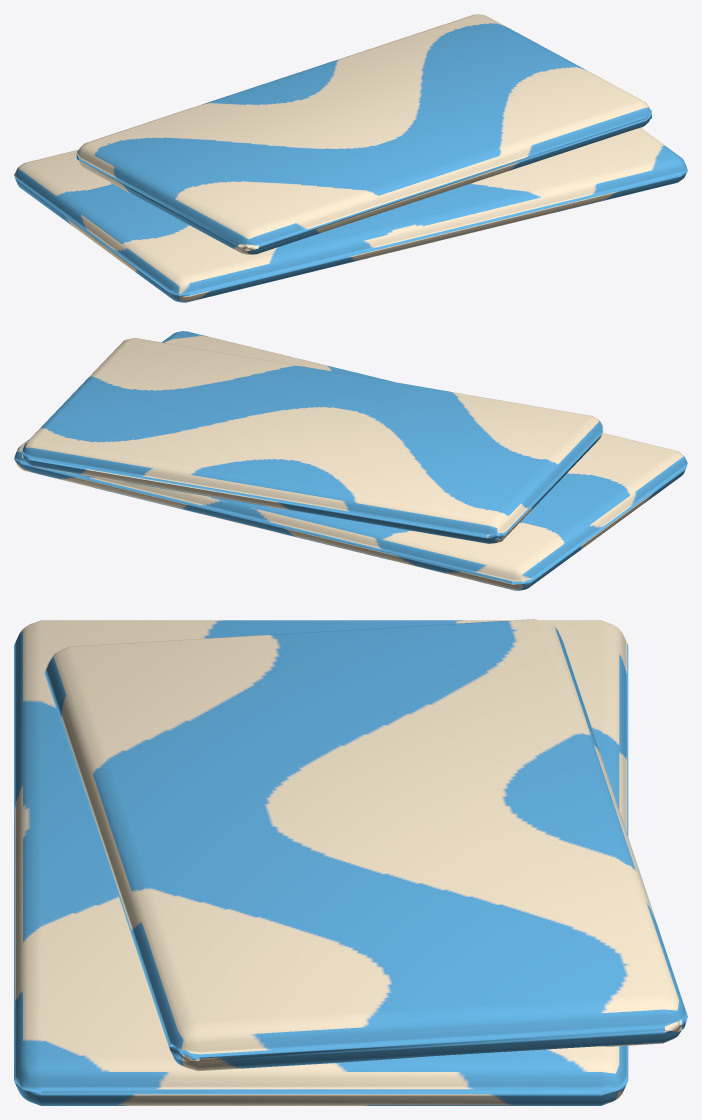
File: pastel_blanket_02.glb
The picture shows the model from 3 angles, top to bottom: view 1: azimuth 30°, elevation 25°; view 2: azimuth 150°, elevation 25°; view 3: azimuth 270°, elevation 25°; orthographic projection. The views are drawn at different scales.
Visible parts, largest first — view 1: pastel_blanket_02; view 2: pastel_blanket_02; view 3: pastel_blanket_02.
Part boxes in pixels (bbox=[...]): pastel_blanket_02: bbox=[14, 14, 687, 302]; pastel_blanket_02: bbox=[14, 331, 687, 590]; pastel_blanket_02: bbox=[14, 619, 687, 1105].
Bounding box in the file's own units: 1.22 × 0.11 × 0.7461.
Materials: 1 (1 with a texture image).
